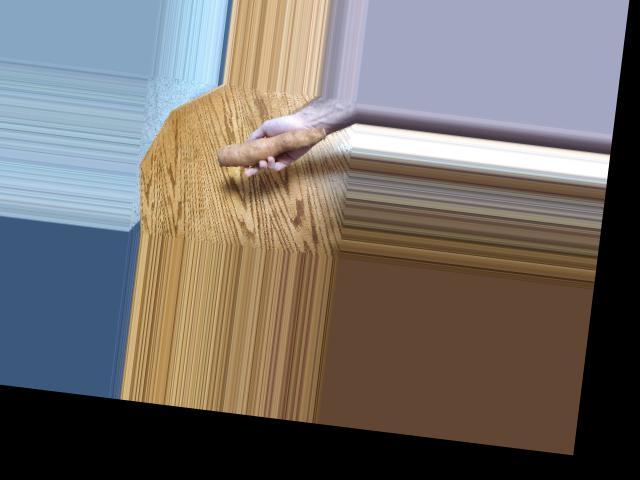sweet_potato: (215, 112, 330, 181)
